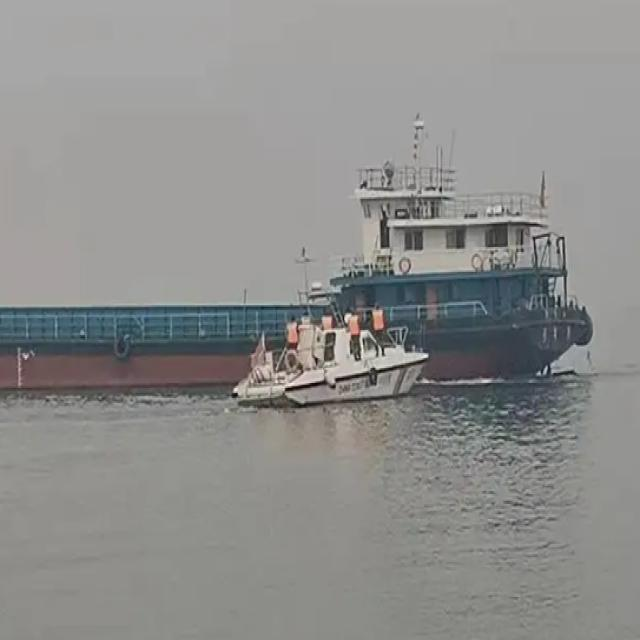cargoship: (0, 123, 600, 380)
houseboat: (223, 282, 414, 399)
